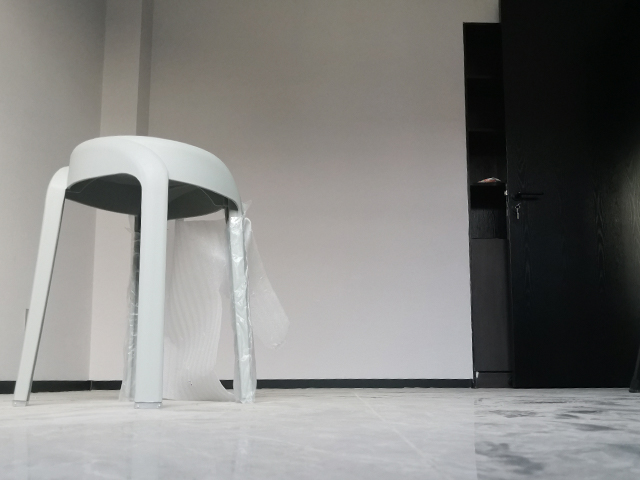stool: (8, 133, 258, 410)
